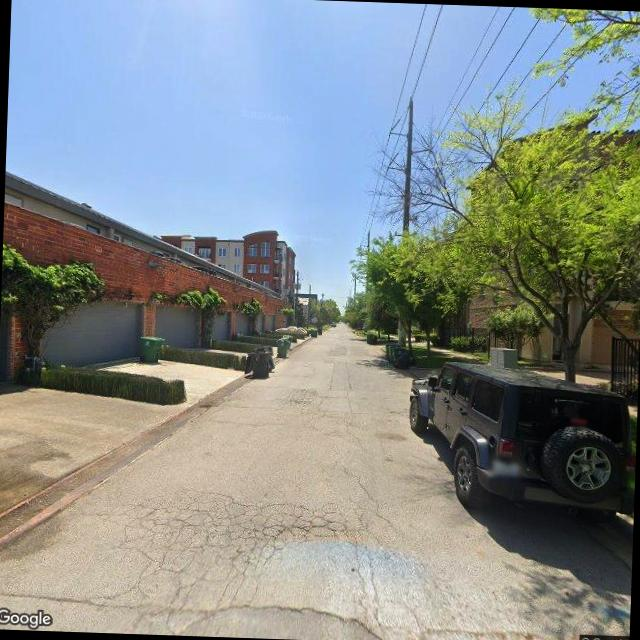crack: (86, 473, 383, 639), (274, 380, 327, 416)
pothole: (332, 460, 397, 526)
